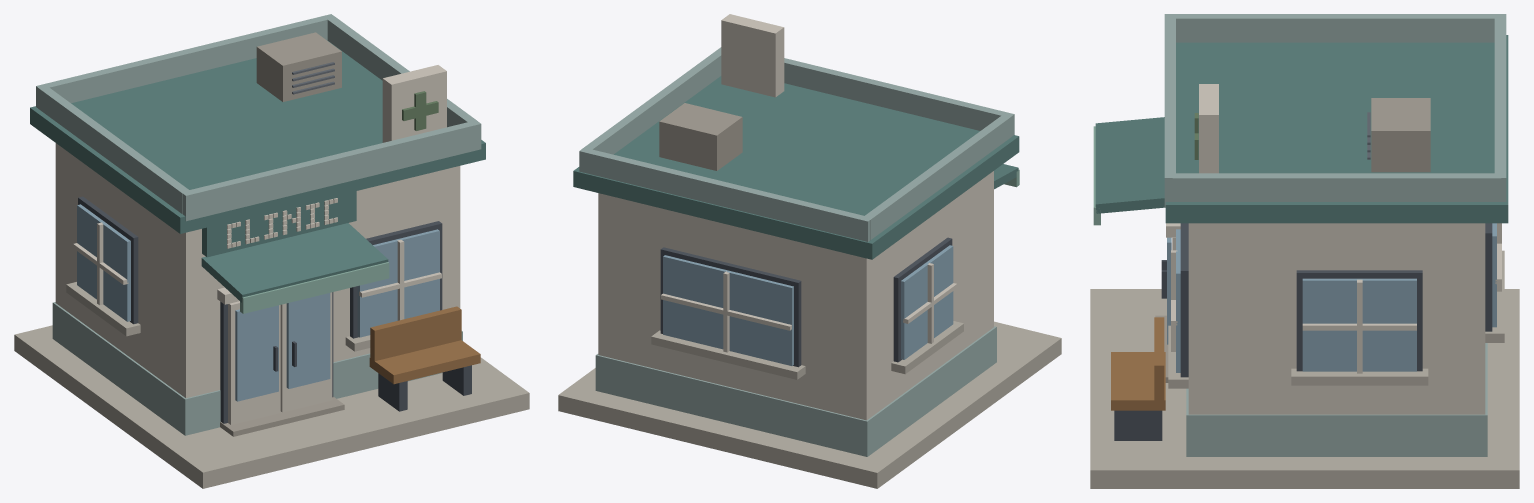
File: komachi-clinic.glb
3 renders of one model, left to right at view 1: azimuth 30°, elevation 25°; view 2: azimuth 150°, elevation 25°; view 3: azimuth 270°, elevation 25°, orthographic. The views are drawn at different scales.
Parts seen in each view (by area): view 1: Clinic_Building_And_Awning, Clinic_Sliding_Door_Left, Clinic_Sliding_Door_Right, Clinic_Green_Plus; view 2: Clinic_Building_And_Awning, Clinic_Green_Plus; view 3: Clinic_Building_And_Awning, Clinic_Green_Plus, Clinic_Sliding_Door_Right.
Part boxes in pixels (<box>): Clinic_Building_And_Awning: <box>14,14,529,488</box>; Clinic_Sliding_Door_Left: <box>228,301,280,424</box>; Clinic_Sliding_Door_Right: <box>280,292,332,412</box>; Clinic_Green_Plus: <box>382,65,446,142</box>; Clinic_Building_And_Awning: <box>558,47,1061,488</box>; Clinic_Green_Plus: <box>721,14,784,97</box>; Clinic_Building_And_Awning: <box>1090,14,1519,488</box>; Clinic_Green_Plus: <box>1194,84,1218,173</box>; Clinic_Sliding_Door_Right: <box>1161,237,1175,344</box>.
Size of the model in its own units: 0.94 by 0.857 by 0.94.
